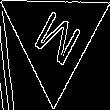M_SW: (26, 4, 83, 71)
